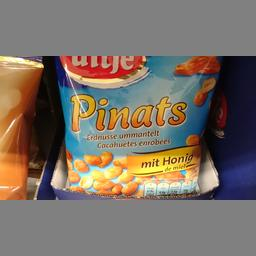nuts: (54, 55, 222, 194)
